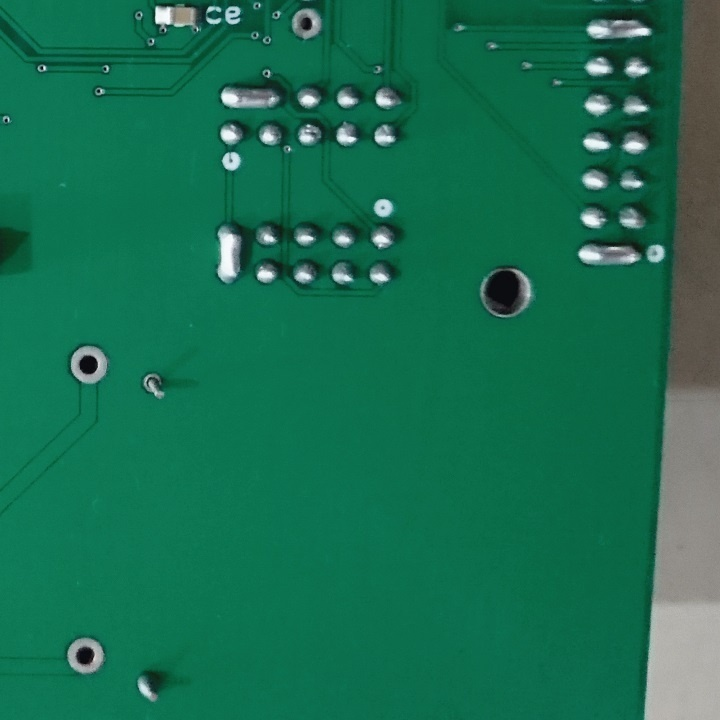F: (64, 343, 112, 385), (63, 635, 110, 677), (290, 6, 324, 42), (139, 372, 166, 403)
P: (212, 215, 247, 289), (574, 237, 645, 271), (584, 13, 658, 43), (216, 80, 284, 112)
